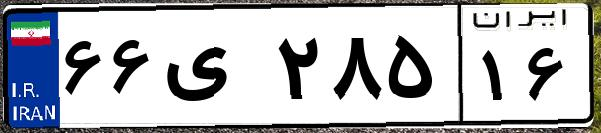1: (475, 38, 525, 113)
2: (270, 28, 330, 110)
5: (385, 28, 445, 110)
6: (57, 26, 110, 100), (525, 38, 570, 115), (110, 28, 158, 98)
8: (330, 28, 385, 110)
ی: (158, 20, 270, 120)
